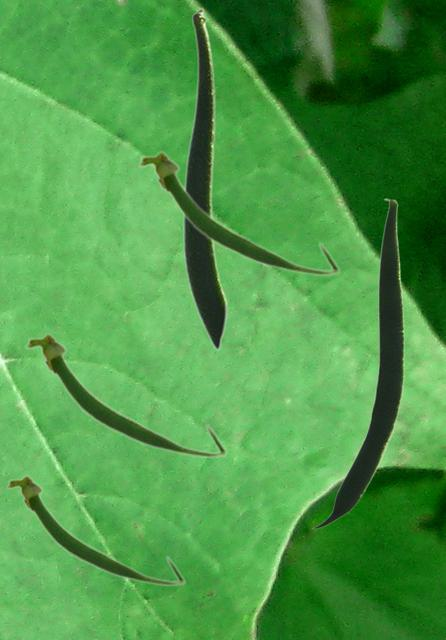french_bean: (311, 198, 403, 528), (24, 331, 227, 458), (137, 149, 340, 276), (5, 474, 185, 586), (182, 7, 227, 350)
